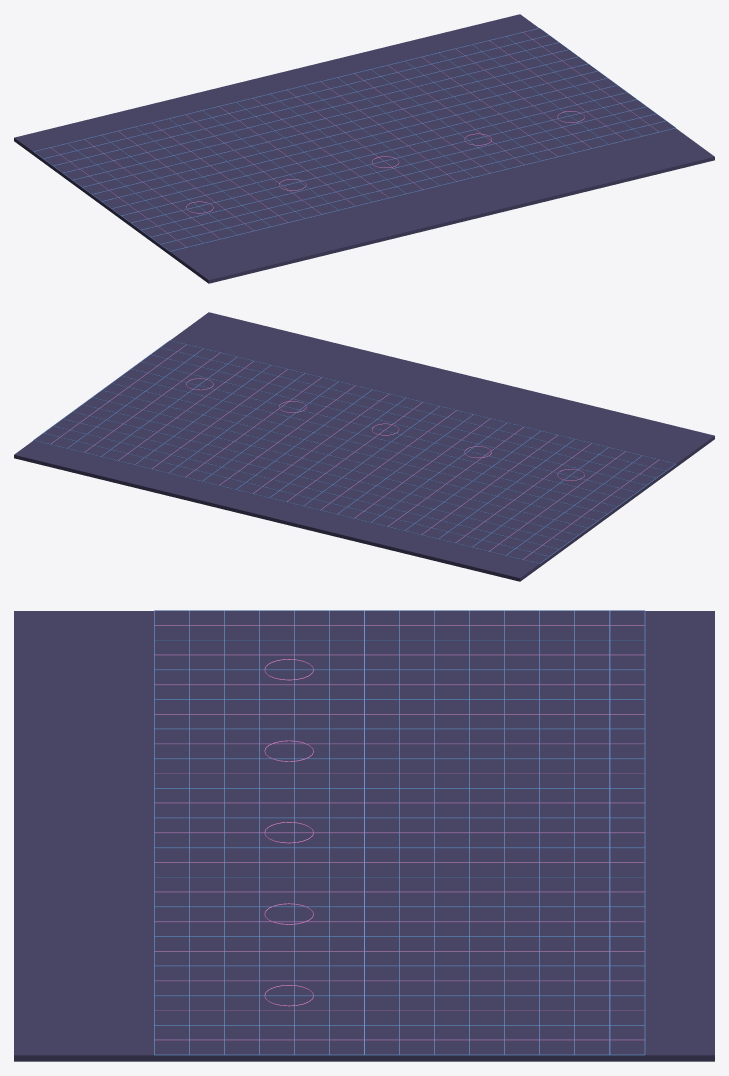
The model's file is suelo_arcade.glb.
The picture shows the model from 3 angles, top to bottom: view 1: azimuth 30°, elevation 25°; view 2: azimuth 150°, elevation 25°; view 3: azimuth 270°, elevation 25°; orthographic projection. The views are drawn at different scales.
Parts seen in each view (by area): view 1: suelo_arcade; view 2: suelo_arcade; view 3: suelo_arcade.
Part boxes in pixels (<box>): suelo_arcade: <box>14,14,714,283</box>; suelo_arcade: <box>14,312,714,581</box>; suelo_arcade: <box>14,610,714,1061</box>.
Size of the model in its own units: 60.04 by 0.455 by 40.
